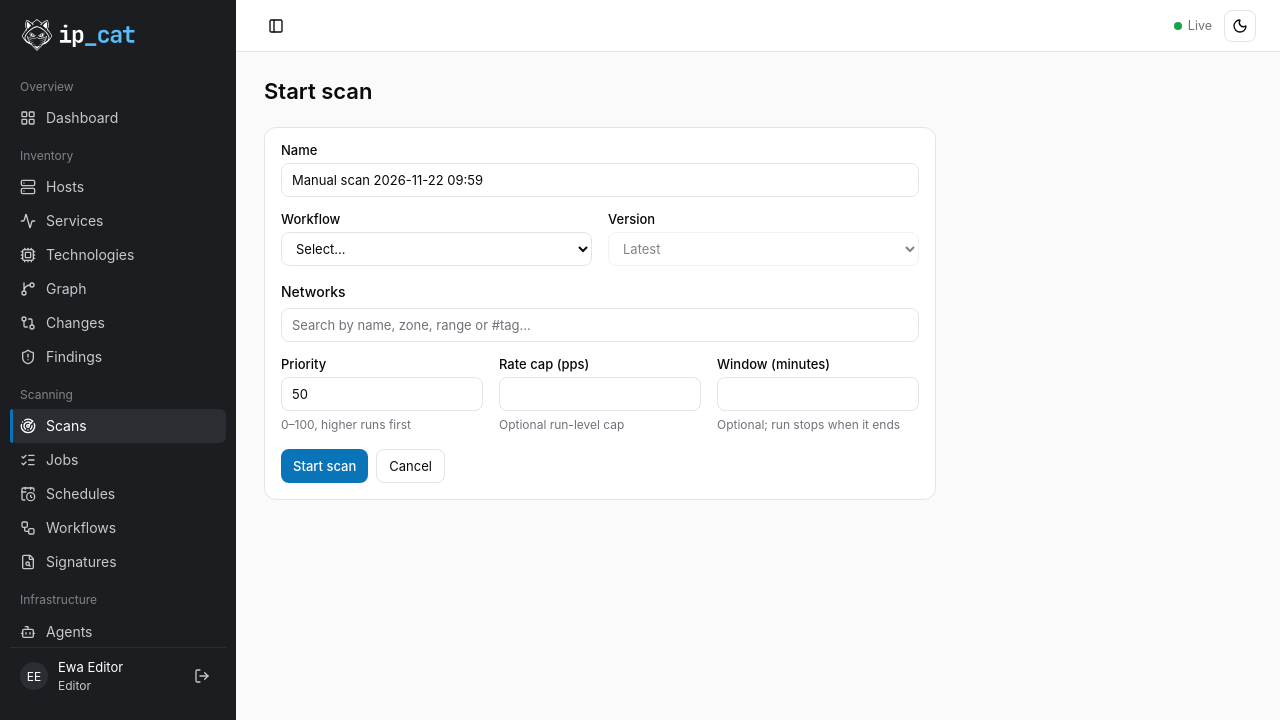
Test: start scan form › requires at least one network
Select "Quick port sweep (quick-ports)" in the dropdown labelled "Workflow": (436, 249) left=281, top=232, right=592, bottom=266
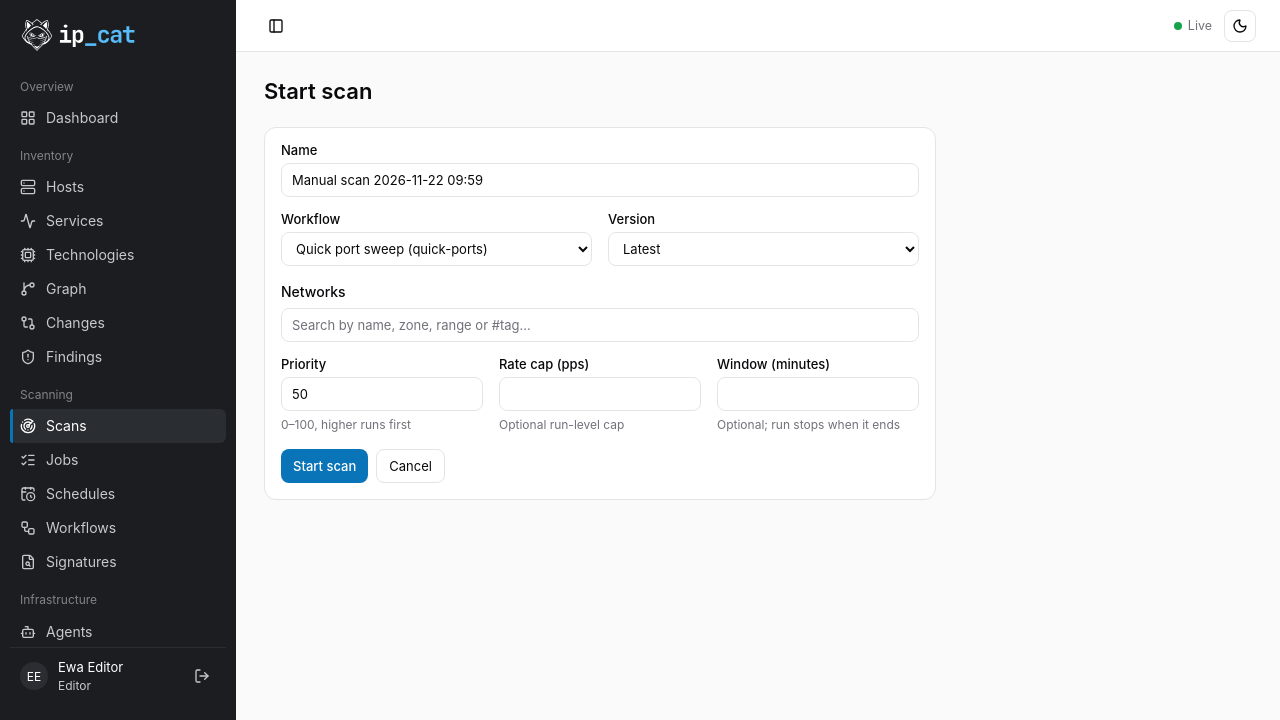
Click the button "Start scan": (325, 466) left=281, top=449, right=368, bottom=483
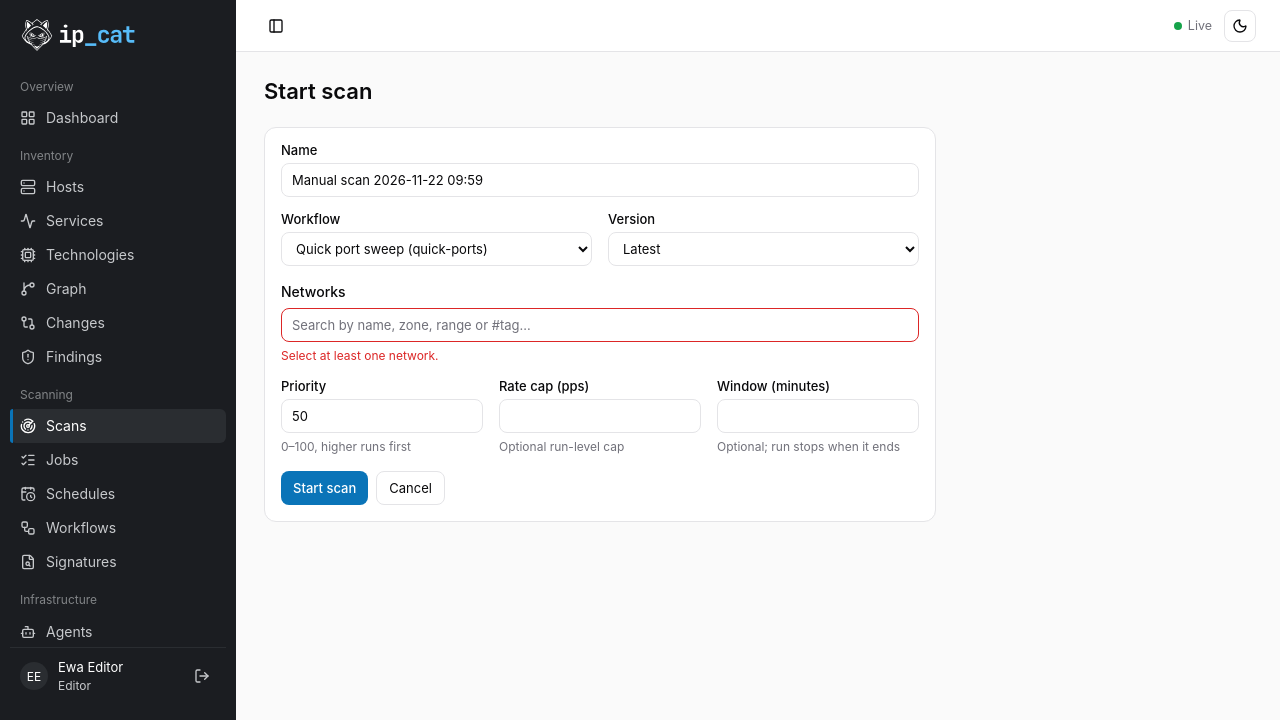
Result: the text "Select at least one network." is shown at left=281, top=348, right=439, bottom=363
